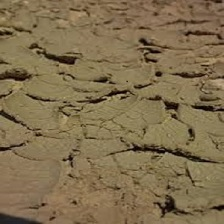clay_soil: (10, 21, 212, 206)
